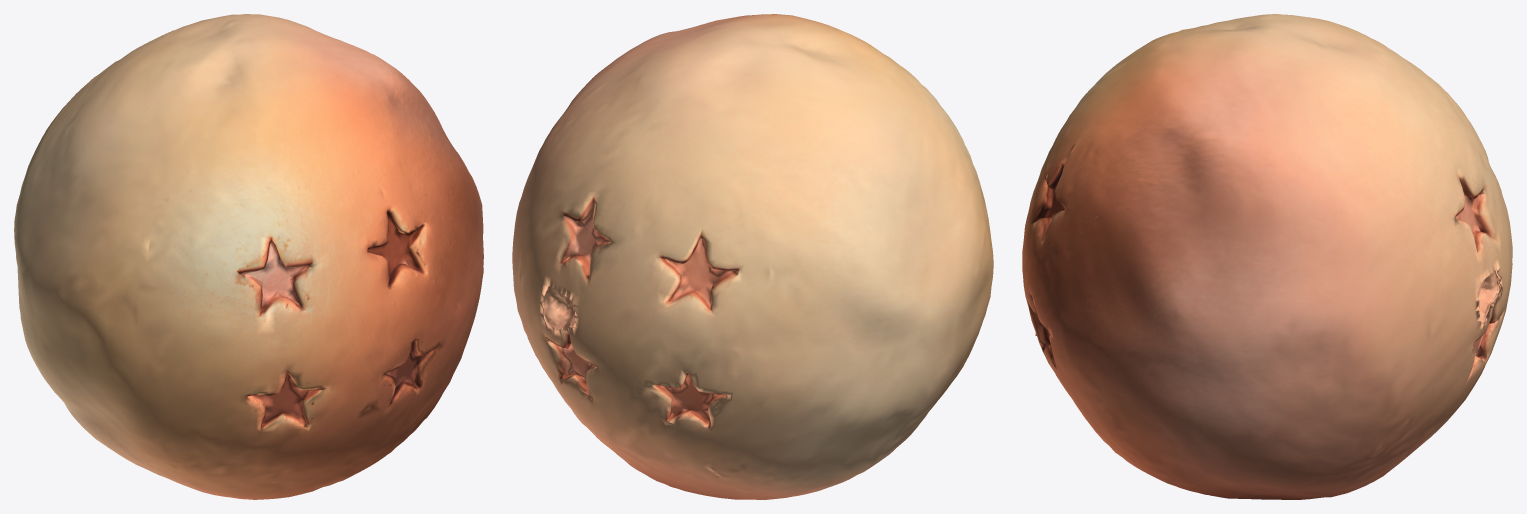
The model's file is Stack 3B - Dragon Ball.glb.
3 views of the same model, side by side, from view 1: azimuth 30°, elevation 25°; view 2: azimuth 150°, elevation 25°; view 3: azimuth 270°, elevation 25° (orthographic). The views are drawn at different scales.
Parts seen in each view (by area): view 1: Stack 3B - Dragon Ball · mesh; view 2: Stack 3B - Dragon Ball · mesh; view 3: Stack 3B - Dragon Ball · mesh.
Boxes of the visible parts, left/top/right/bottom form: Stack 3B - Dragon Ball · mesh: left=14, top=14, right=483, bottom=499; Stack 3B - Dragon Ball · mesh: left=512, top=14, right=993, bottom=499; Stack 3B - Dragon Ball · mesh: left=1022, top=14, right=1512, bottom=499.
Bounding box in the file's own units: 0.9917 × 1 × 0.9946.
1 material, 1 textured.
